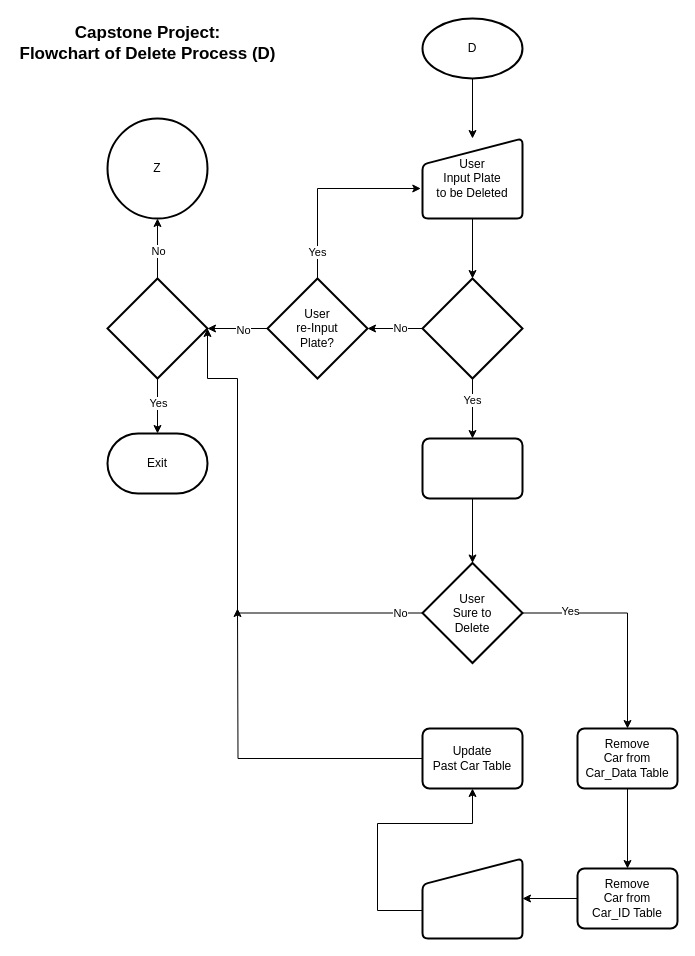
This 695x956 diagram has some shape labels left out. The shapes that lost their labels are listed below. From the top down, each one's centre as x and y in pixels, then its label:
At (157,328): "Exit the Program?".
At (472,328): "Plate Exist?".
At (472,468): "Display Car Information".
At (472,898): "Input Delete Reason".
